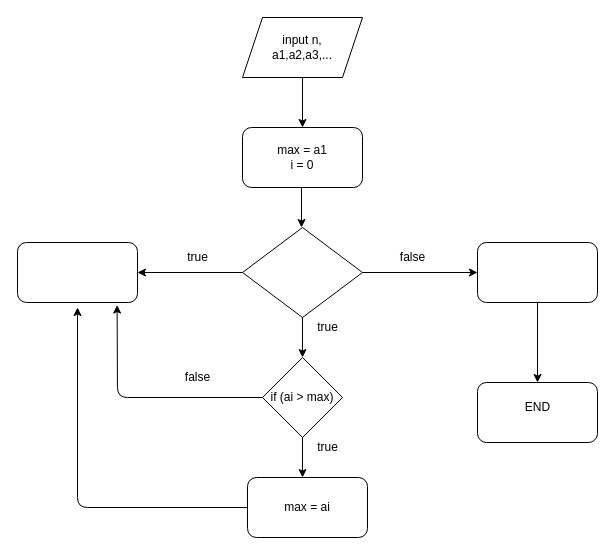
Image size: 615x555. Some labels were removed from this diagram. Each missing label, with the centre of its shape:
"a = i + 1" goes at (x=77, y=272).
"display max" goes at (x=537, y=272).
"if (i < n)" goes at (x=302, y=272).
